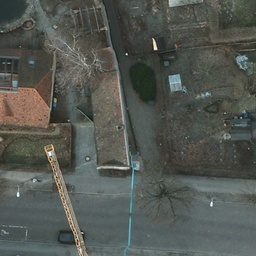car: (55, 228, 85, 245)
